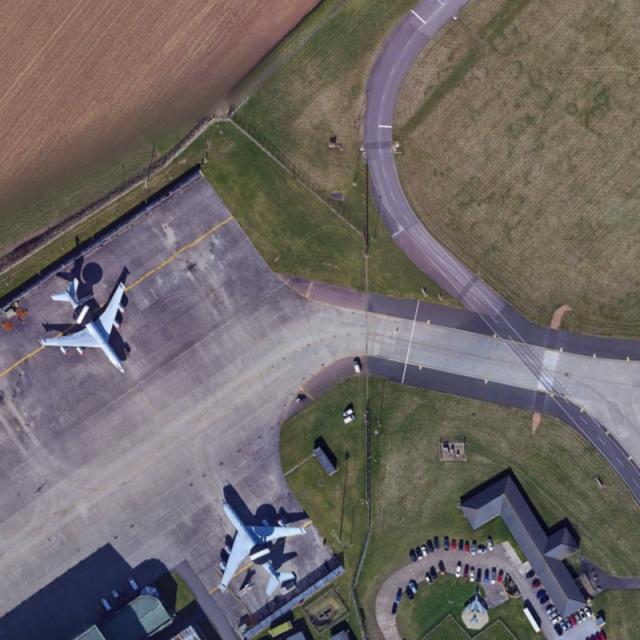fighter jet: (210, 486, 313, 606), (40, 279, 132, 381)
